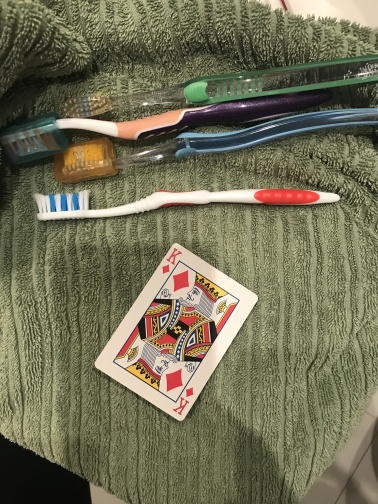king: (93, 242, 260, 423)
